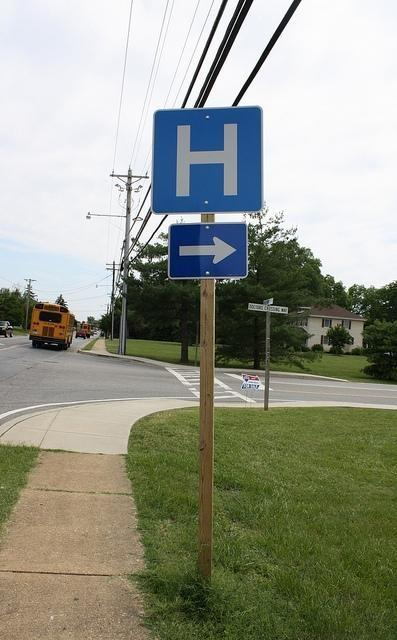bus: (28, 302, 78, 351), (79, 323, 91, 338)
car: (1, 321, 13, 338), (74, 329, 86, 340)
